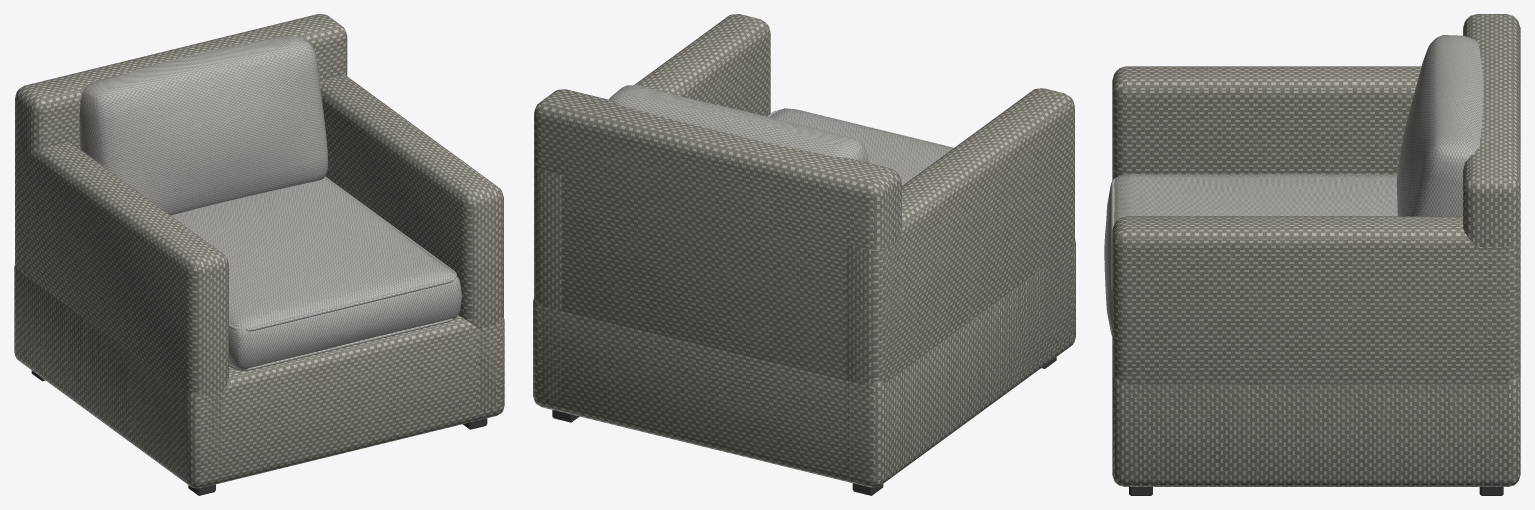
Rendered from sillon_ratan_gris.glb.
3 renders of one model, left to right at view 1: azimuth 30°, elevation 25°; view 2: azimuth 150°, elevation 25°; view 3: azimuth 270°, elevation 25°, orthographic. The views are drawn at different scales.
Visible parts, largest first — view 1: sillon_ratan_gris; view 2: sillon_ratan_gris; view 3: sillon_ratan_gris.
Part boxes in pixels (<box>): sillon_ratan_gris: <box>14,14,504,495</box>; sillon_ratan_gris: <box>533,14,1075,495</box>; sillon_ratan_gris: <box>1104,14,1520,495</box>.
Size of the model in its own units: 0.85 by 0.7632 by 0.8664.
Materials: 3 (2 with a texture image).
